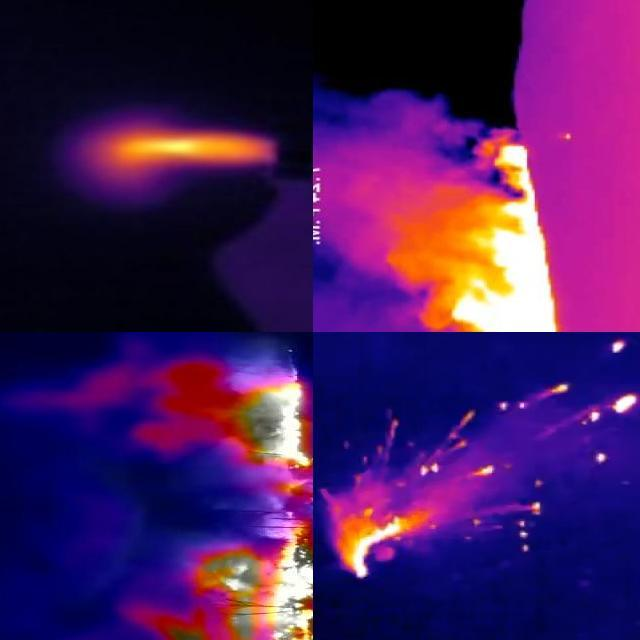fire: (182, 476, 314, 640), (449, 140, 559, 333), (323, 480, 441, 580), (206, 370, 314, 472), (88, 130, 280, 177)
